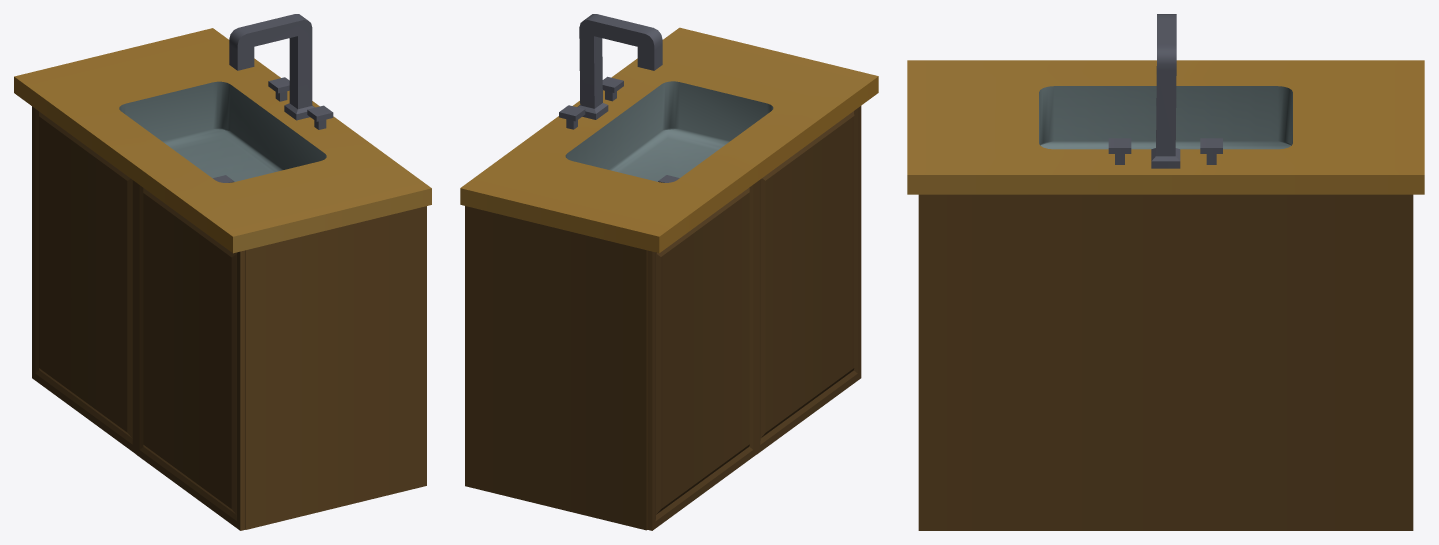
File: ShowerTable.fbx
The picture shows the model from 3 angles, left to right: view 1: azimuth 30°, elevation 25°; view 2: azimuth 150°, elevation 25°; view 3: azimuth 270°, elevation 25°; orthographic projection. The views are drawn at different scales.
Visible parts, largest first — view 1: ShowerTable; view 2: ShowerTable; view 3: ShowerTable.
Part boxes in pixels (<box>): ShowerTable: <box>14,14,431,530</box>; ShowerTable: <box>460,14,878,530</box>; ShowerTable: <box>907,14,1424,530</box>.
Size of the model in its own units: 61.04 by 117 by 116.
